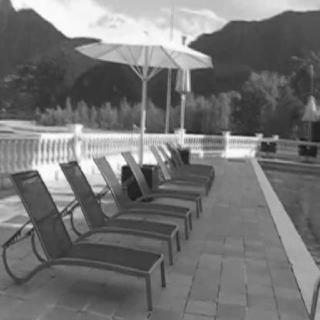other: (106, 28, 212, 60)
